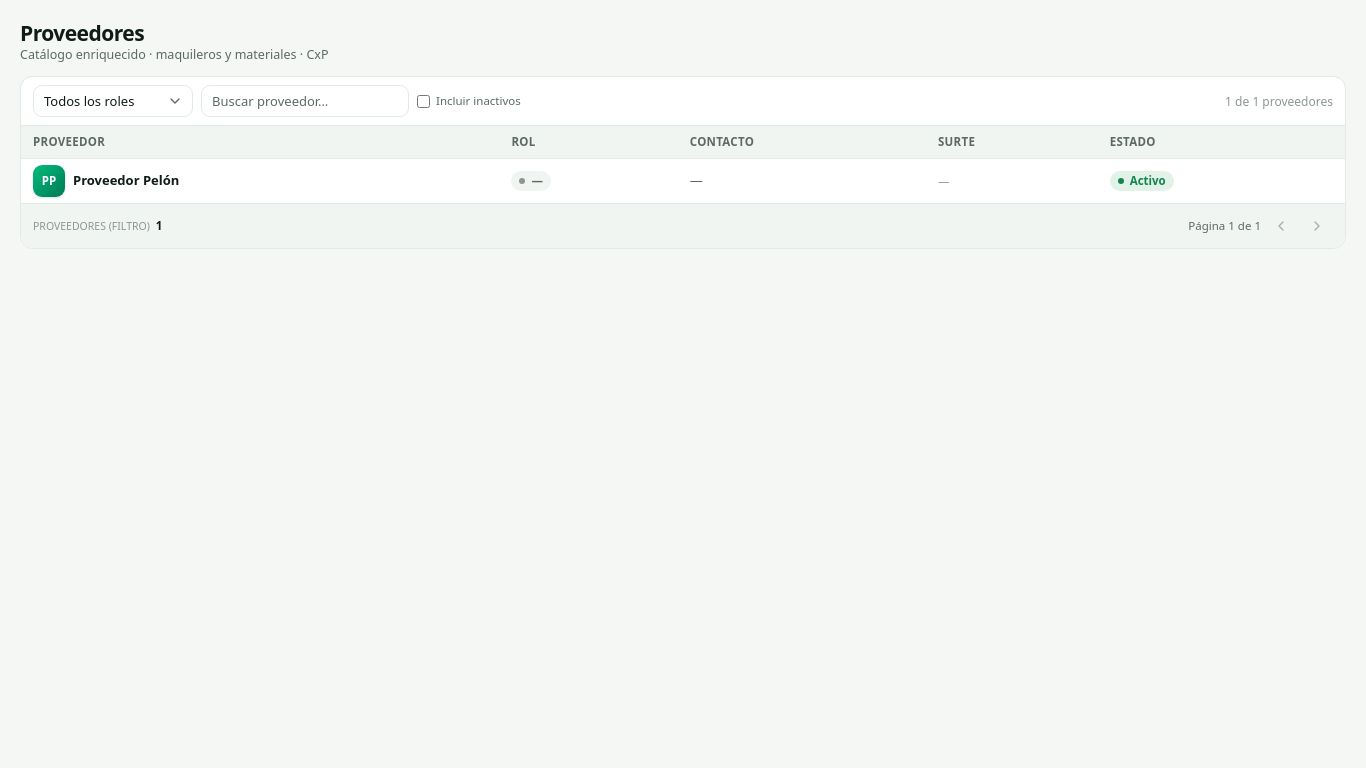
<ProveedoresPagina> › no muestra las secciones enriquecidas si el proveedor no tiene esos datos
Click the row with test id "fila-proveedor".
click(49, 181)  # box [21,158,1345,203]
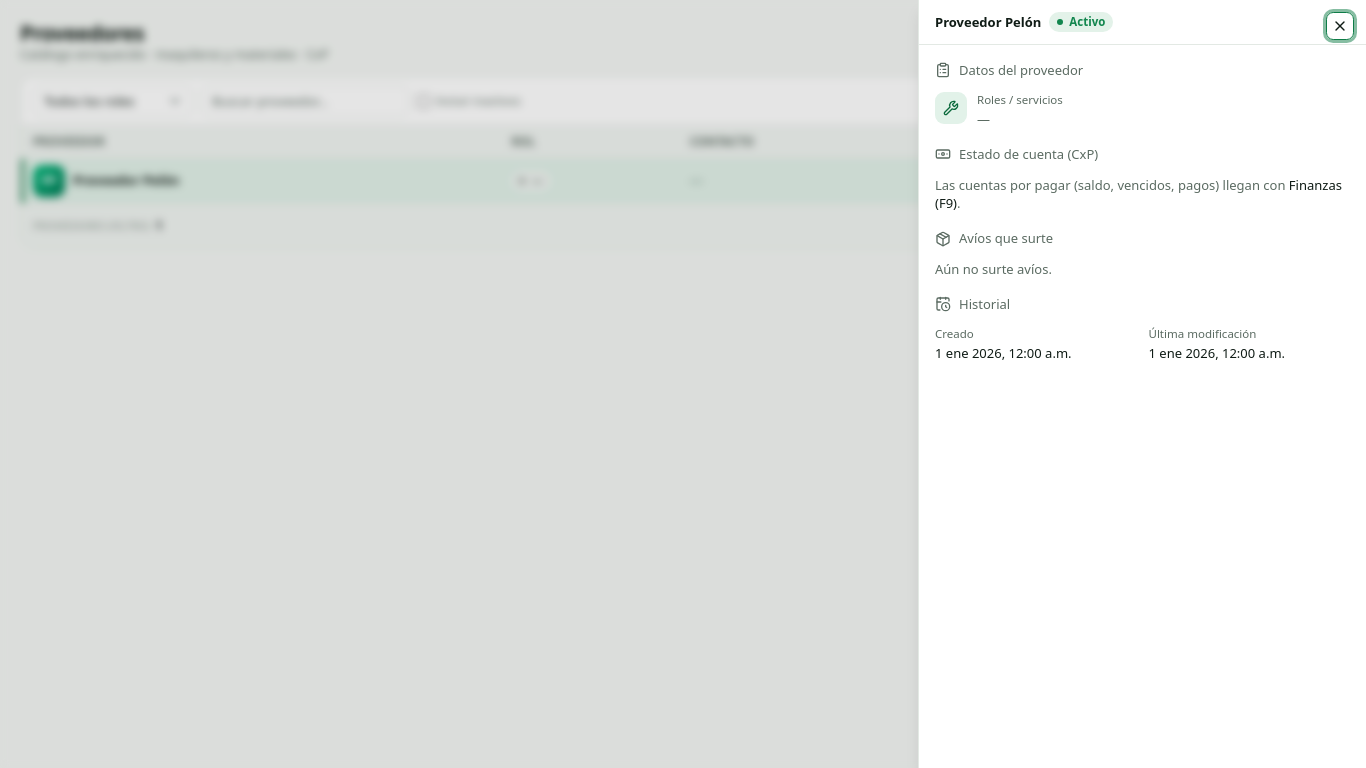
Check: the heading "Datos del proveedor" is shown, box [935,61,1083,79]
